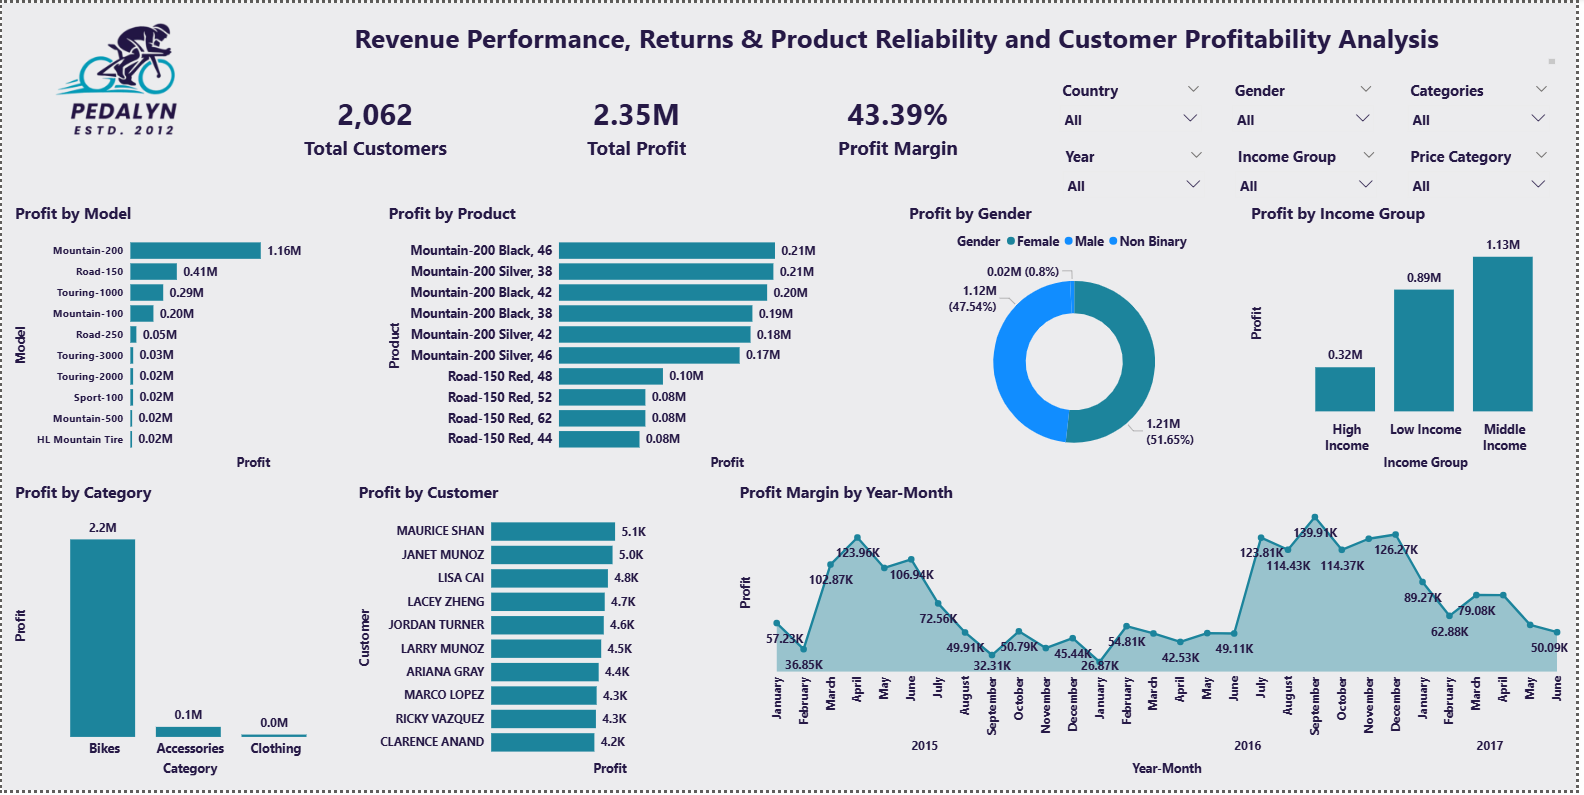

This screenshot's page, from the dashboard's own definition file:
{"tool":"powerbi","page":{"name":"Customer Profitability","canvas":[2000,1000],"ordinal":2},"visuals":[{"type":"cardVisual","fields":{"Data":["customers.Total Customers","sales_combined.Total Profit","sales_combined.Profit Margin"]},"box":[295.7,94.6,1022,123],"z":0},{"type":"image","box":[11.9,0,282.9,190.2],"z":1000},{"type":"clusteredBarChart","fields":{"Category":["products.ProductName"],"Y":["sales_combined.Profit"]},"box":[486,254.1,653.8,345.4],"z":2000},{"type":"clusteredBarChart","fields":{"Category":["products.ModelName"],"Y":["sales_combined.Profit"]},"box":[12.3,254.1,468.8,345.4],"z":3000},{"type":"donutChart","fields":{"Category":["customers.Gender"],"Y":["sales_combined.Profit"]},"box":[1147.2,254.1,429.3,345.4],"z":4000},{"type":"clusteredColumnChart","fields":{"Category":["product_categories.CategoryName"],"Y":["sales_combined.Profit"]},"box":[11.8,608,428.2,378.6],"z":5000},{"type":"areaChart","title":"Profit Margin by Year-Month","fields":{"Category":["calendar.Date.Variation.Date Hierarchy.Year","calendar.Date.Variation.Date Hierarchy.Month"],"Y":["sales_combined.Profit"]},"box":[932.2,608,1062.3,378.6],"z":6000},{"type":"clusteredBarChart","fields":{"Y":["sales_combined.Profit"],"Category":["customers.FullName"]},"box":[447.2,608,480.3,378.6],"z":7000},{"type":"clusteredColumnChart","fields":{"Category":["customers.Income Group"],"Y":["sales_combined.Profit"]},"box":[1581.4,254.1,412,345.4],"z":8000},{"type":"slicer","fields":{"Values":["territories.Country"]},"box":[1334.7,93.8,199.8,76.5],"z":9000},{"type":"slicer","fields":{"Values":["customers.Gender"]},"box":[1554.3,93.8,199.8,76.5],"z":10000},{"type":"slicer","fields":{"Values":["product_categories.CategoryName"]},"box":[1776.3,93.8,199.8,76.5],"z":11000},{"type":"slicer","fields":{"Values":["calendar.Year"]},"box":[1337.2,177.6,199.8,76.5],"z":12000},{"type":"slicer","fields":{"Values":["customers.Income Group"]},"box":[1556.8,177.6,199.8,76.5],"z":13000},{"type":"slicer","fields":{"Values":["products.Price Category"]},"box":[1776.3,177.6,199.8,76.5],"z":14000},{"type":"textbox","title":"Revenue Performance, Returns & Product Reliability and Customer Profitability Analysis","box":[294.7,21.4,1682.9,61.8],"z":15000}]}

Visuals, with their boxes in screenshot pixels (x1, y1, x2, y2), scaled from the page's 2000x1000 canvas onto the 1584x795 screenshot:
cardVisual - customers.Total Customers x sales_combined.Total Profit: 234,75,1044,173
image: 9,0,233,151
clusteredBarChart - products.ProductName x sales_combined.Profit: 385,202,903,477
clusteredBarChart - products.ModelName x sales_combined.Profit: 10,202,381,477
donutChart - customers.Gender x sales_combined.Profit: 909,202,1249,477
clusteredColumnChart - product_categories.CategoryName x sales_combined.Profit: 9,483,348,784
"Profit Margin by Year-Month" areaChart: 738,483,1580,784
clusteredBarChart - sales_combined.Profit x customers.FullName: 354,483,735,784
clusteredColumnChart - customers.Income Group x sales_combined.Profit: 1252,202,1579,477
slicer - territories.Country: 1057,75,1215,135
slicer - customers.Gender: 1231,75,1389,135
slicer - product_categories.CategoryName: 1407,75,1565,135
slicer - calendar.Year: 1059,141,1217,202
slicer - customers.Income Group: 1233,141,1391,202
slicer - products.Price Category: 1407,141,1565,202
"Revenue Performance, Returns & Product Reliability and Customer Profitability Analysis" textbox: 233,17,1566,66
